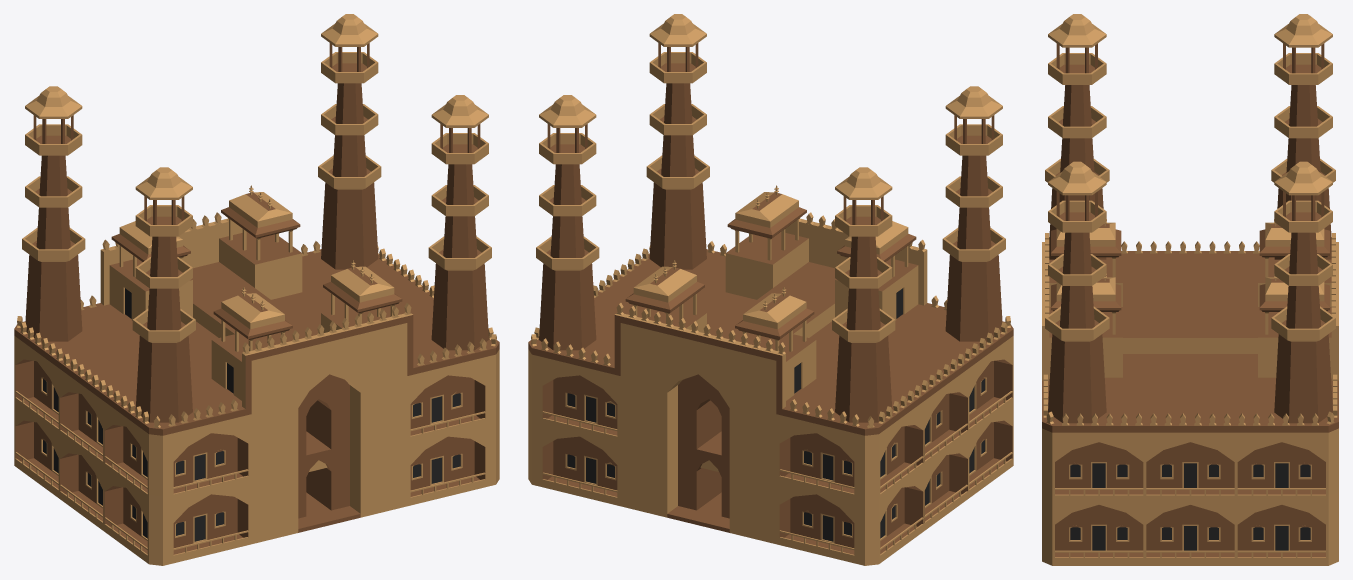
The model's file is india_hindu-tomb.fbx.
3 views of the same model, side by side, from view 1: azimuth 30°, elevation 25°; view 2: azimuth 150°, elevation 25°; view 3: azimuth 270°, elevation 25° (orthographic). The views are drawn at different scales.
Parts seen in each view (by area): view 1: india_hindu_tomb; view 2: india_hindu_tomb; view 3: india_hindu_tomb.
Part boxes in pixels (bbox=[...]): india_hindu_tomb: bbox=[14, 14, 499, 565]; india_hindu_tomb: bbox=[528, 14, 1013, 565]; india_hindu_tomb: bbox=[1042, 14, 1338, 565].
Size of the model in its own units: 194 by 200 by 139.
